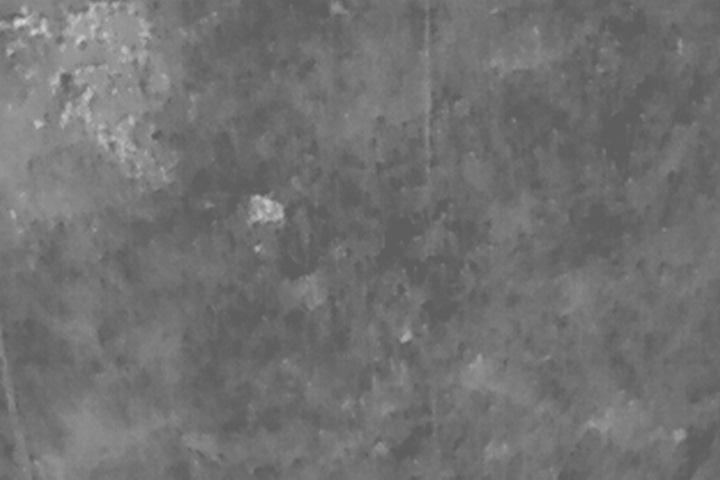landmine: (249, 194, 288, 228)
